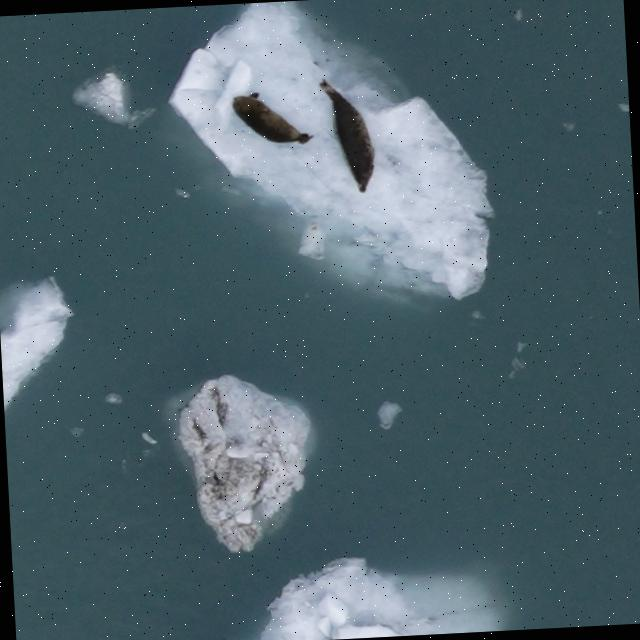seal: (317, 75, 381, 202), (229, 87, 318, 149)
